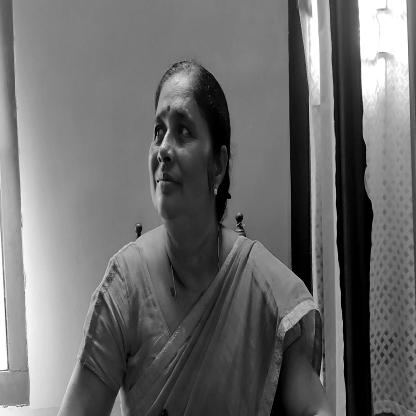Distracted: (146, 55, 232, 234)
